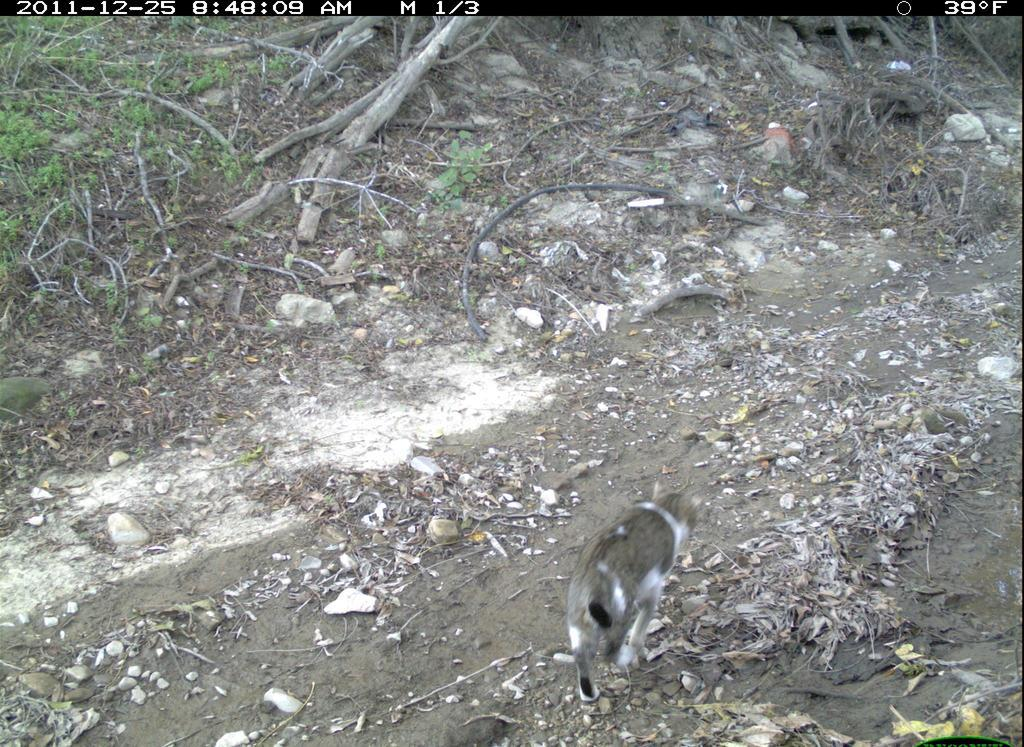cat: (561, 479, 707, 705)
